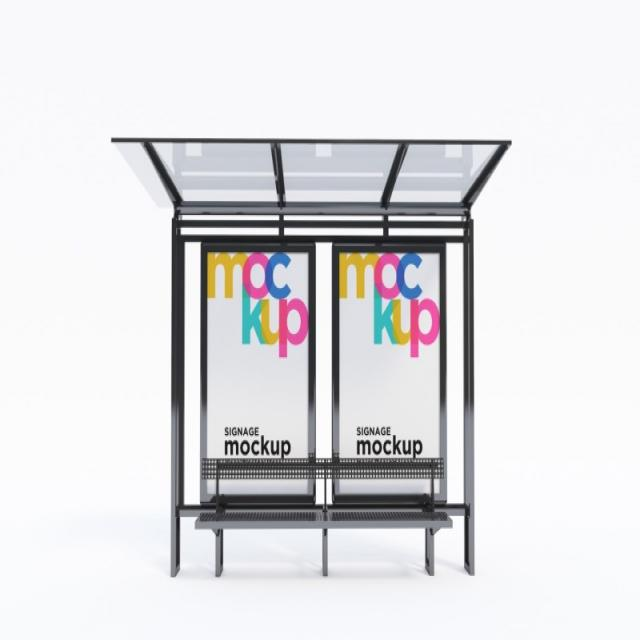Werbetafel frei: (198, 234, 448, 507)
